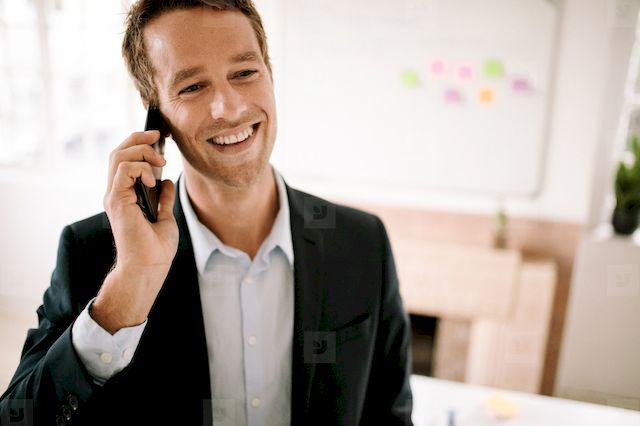phone: (133, 98, 174, 218)
talk: (103, 40, 279, 278)
